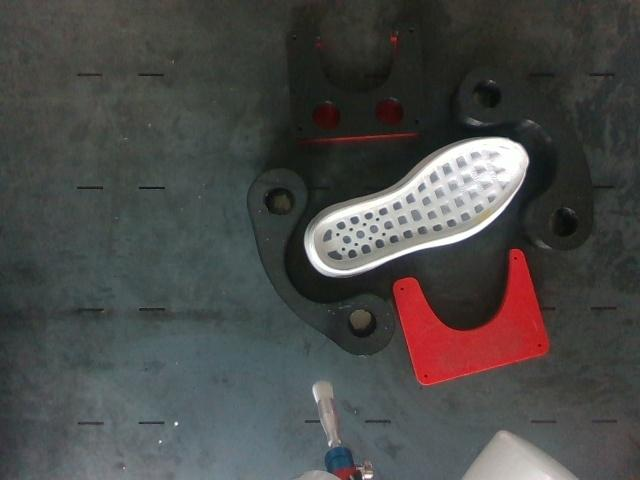shoes: (313, 138, 526, 271)
